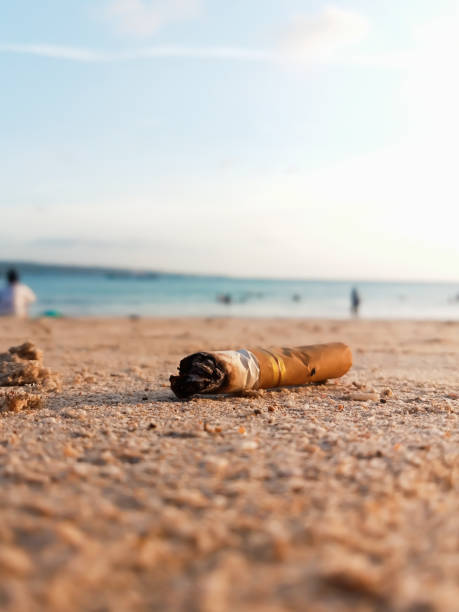cigarette: (170, 342, 356, 402)
